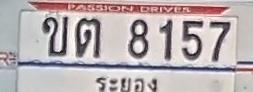1: (160, 18, 172, 60)
5: (181, 20, 203, 60)
7: (210, 20, 230, 60)
8: (128, 18, 148, 58)
A02: (42, 16, 68, 56)
A21: (75, 16, 101, 56)
RYG: (90, 71, 164, 92)
